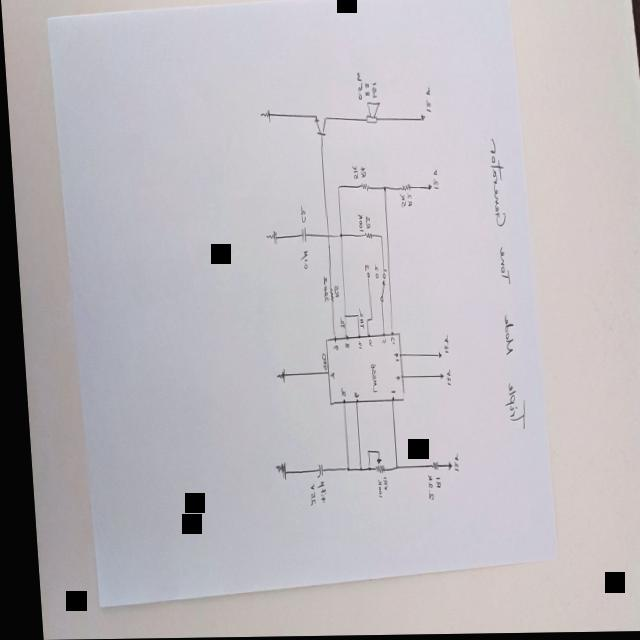capacitor: (309, 464, 317, 481), (297, 228, 304, 247)
crossover: (323, 233, 326, 241)
ground: (268, 462, 280, 483), (261, 231, 274, 247), (270, 369, 280, 387), (257, 110, 269, 125)
junction: (338, 466, 343, 474), (335, 233, 339, 241), (334, 186, 337, 193), (380, 187, 383, 194), (361, 466, 364, 473), (352, 467, 355, 474), (388, 466, 391, 472), (360, 450, 363, 456), (370, 451, 373, 456), (365, 319, 368, 323), (361, 319, 364, 323), (352, 314, 354, 320), (377, 236, 379, 241), (339, 316, 341, 320)
resistor: (366, 460, 378, 476), (421, 461, 432, 473), (359, 233, 369, 242), (357, 183, 366, 193), (325, 287, 330, 305), (397, 185, 408, 193)
source: (418, 115, 424, 124), (441, 463, 446, 473), (433, 374, 439, 382), (432, 353, 437, 362), (424, 185, 429, 193)
switch: (370, 274, 383, 304)
terminal: (362, 273, 366, 281)
text: (484, 138, 521, 434), (364, 364, 372, 396), (309, 483, 319, 506), (422, 88, 430, 116), (355, 73, 362, 103), (295, 252, 305, 272), (318, 277, 325, 305), (420, 476, 427, 502), (302, 484, 309, 509), (429, 171, 436, 192), (353, 214, 360, 234), (296, 205, 303, 225), (315, 354, 322, 373), (438, 336, 444, 356), (447, 455, 453, 475), (396, 194, 403, 211), (370, 84, 377, 101), (349, 166, 356, 182), (362, 83, 369, 99), (354, 310, 359, 332), (440, 371, 446, 389), (370, 480, 375, 500), (356, 167, 363, 181), (334, 318, 341, 331), (403, 194, 409, 209), (361, 217, 367, 231), (329, 286, 335, 300), (375, 477, 380, 493), (428, 478, 434, 490), (384, 338, 391, 348), (359, 264, 366, 274), (388, 354, 394, 364), (335, 388, 340, 400), (388, 376, 395, 384), (327, 345, 334, 353), (347, 393, 354, 401), (363, 340, 368, 350), (339, 344, 345, 352), (370, 265, 375, 274), (376, 339, 381, 347), (353, 342, 357, 352), (324, 373, 329, 381), (384, 392, 390, 396), (378, 270, 383, 274)
transistor: (311, 115, 326, 138)
